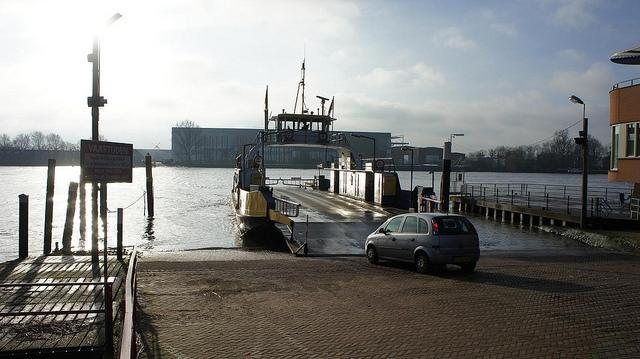car: (362, 210, 480, 276)
